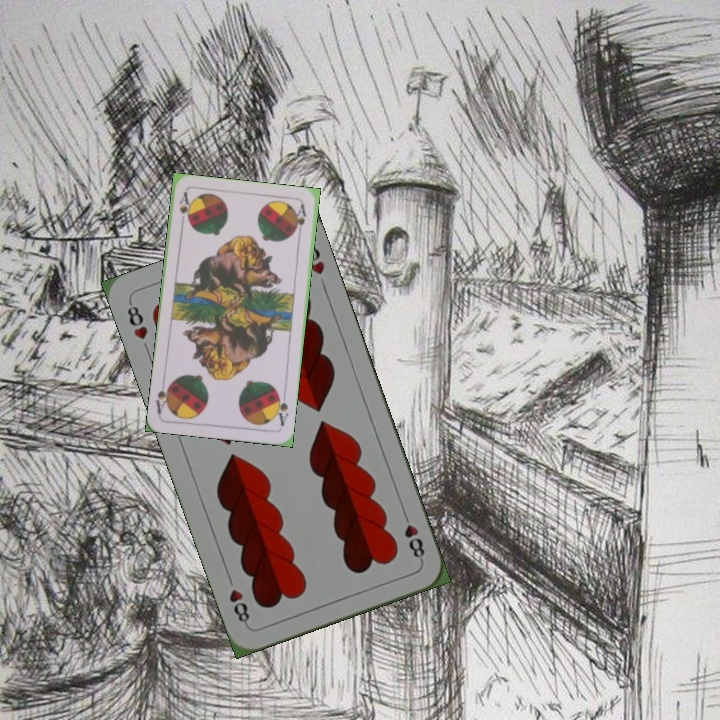H8: (398, 507, 428, 564), (123, 297, 151, 343)
SA: (271, 388, 291, 428), (176, 188, 193, 229)
